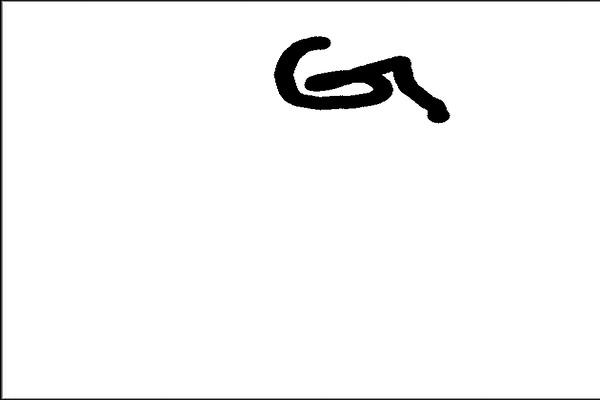G: (272, 29, 455, 129)
